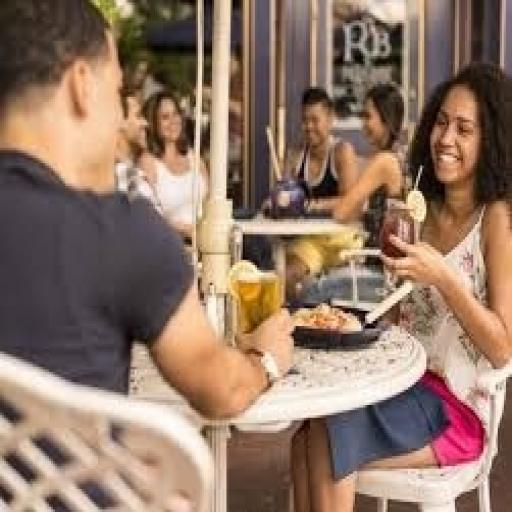eating: (0, 0, 298, 509), (292, 58, 510, 510)
